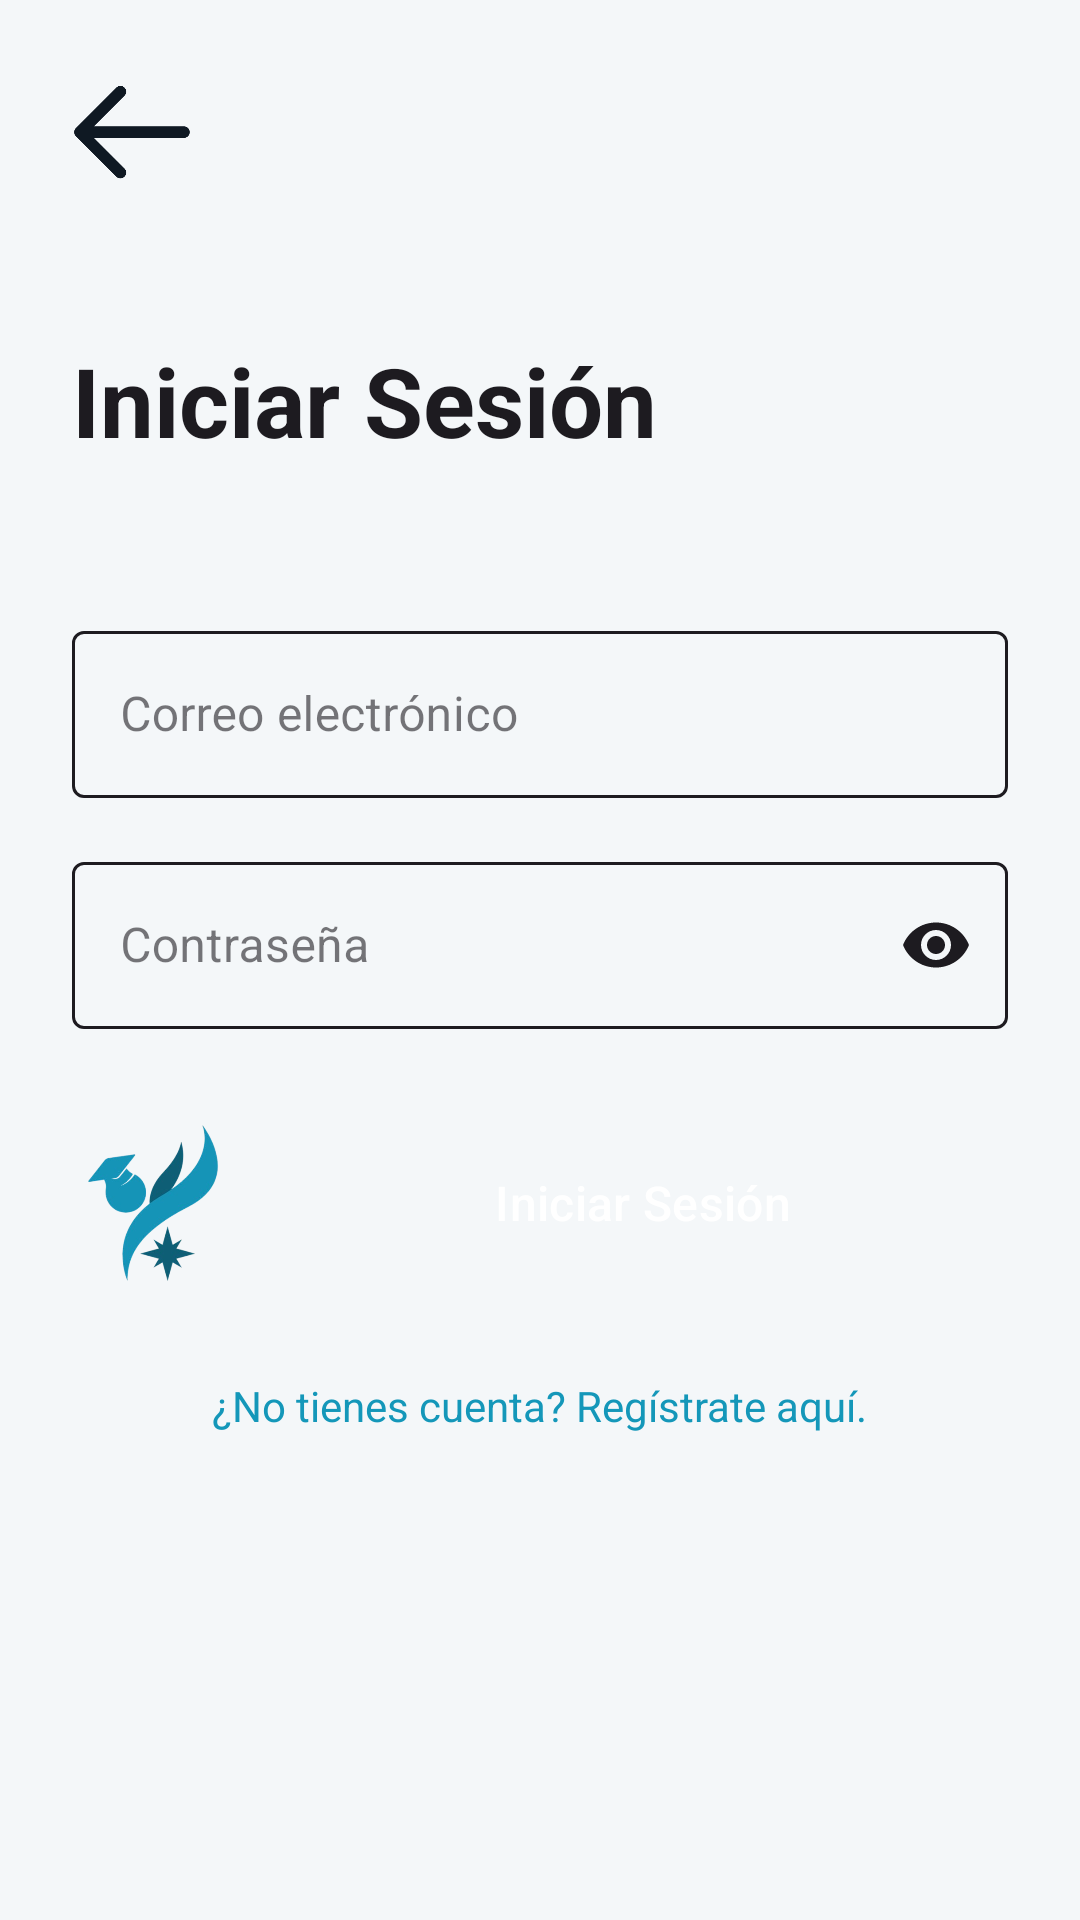

Icon click points for this 1080 × 1920 phone screenshot, format (x,y):
Regresar: (132,132)
